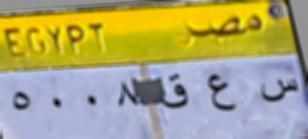0: (44, 91, 68, 114), (82, 92, 101, 111)
5: (11, 86, 35, 113)
8: (108, 79, 139, 114)
ain: (203, 71, 237, 119)
qaaf: (160, 72, 190, 112)
seen: (258, 72, 299, 110)
